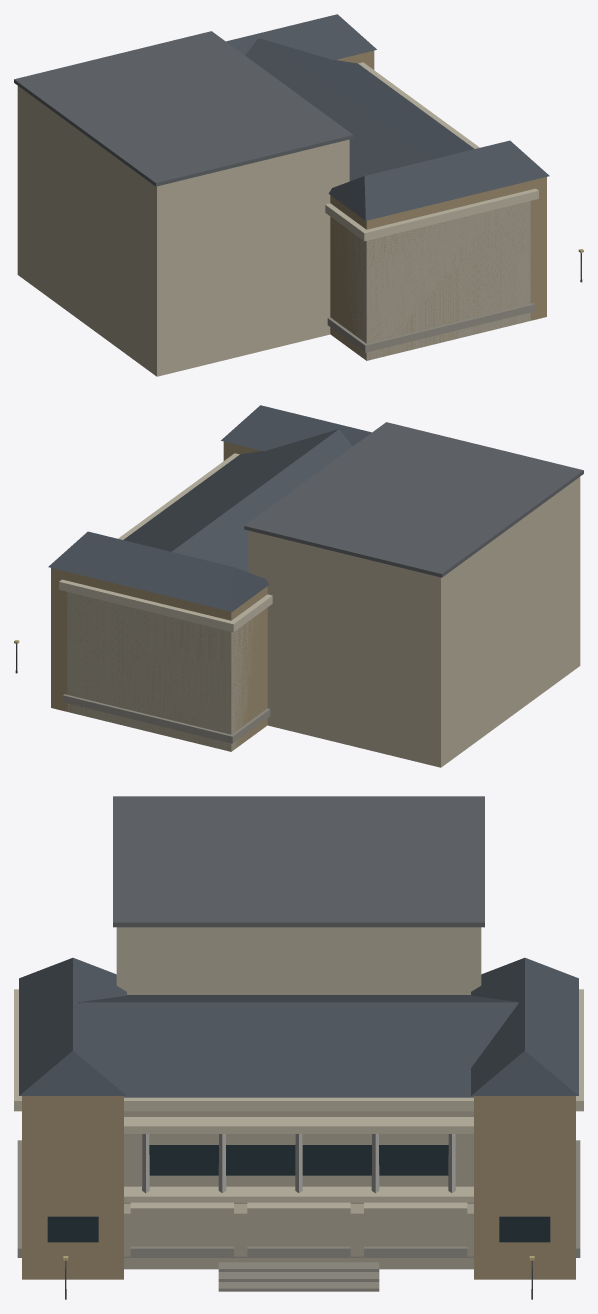
Rendered from mobile-low.glb.
3 renders of one model, top to bottom at view 1: azimuth 30°, elevation 25°; view 2: azimuth 150°, elevation 25°; view 3: azimuth 270°, elevation 25°, orthographic. The views are drawn at different scales.
Parts seen in each view (by area): view 1: lm.opera-house; view 2: lm.opera-house; view 3: lm.opera-house.
Boxes of the visible parts, x1=… form: lm.opera-house: x1=14, y1=14, x2=583, y2=376; lm.opera-house: x1=14, y1=405, x2=583, y2=767; lm.opera-house: x1=14, y1=796, x2=583, y2=1299.
Bounding box in the file's own units: 84.85 × 38.7 × 78.2.
